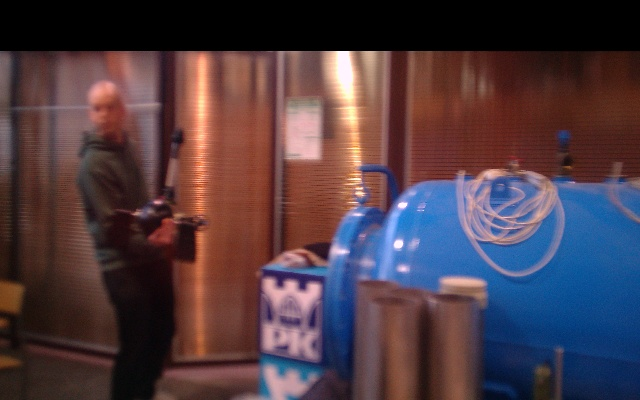black: (163, 155, 179, 188)
